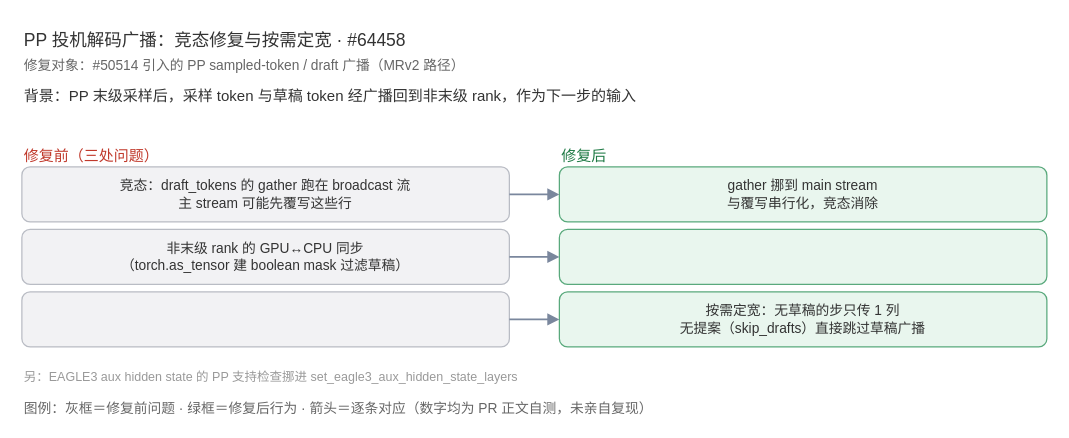
This 1069x438 diagram has some shape labels left out. The centre of each missing label's shape, as x and y in pixels:
广播恒定 pad 到 num_speculative_steps+1 列 没有草稿的步也在传空列: the point at 265,319
过滤挪进 post_update 内核 复用 idx_mapping（-1 ＝ 排除行），去掉 GPU↔CPU 同步: the point at 802,256
